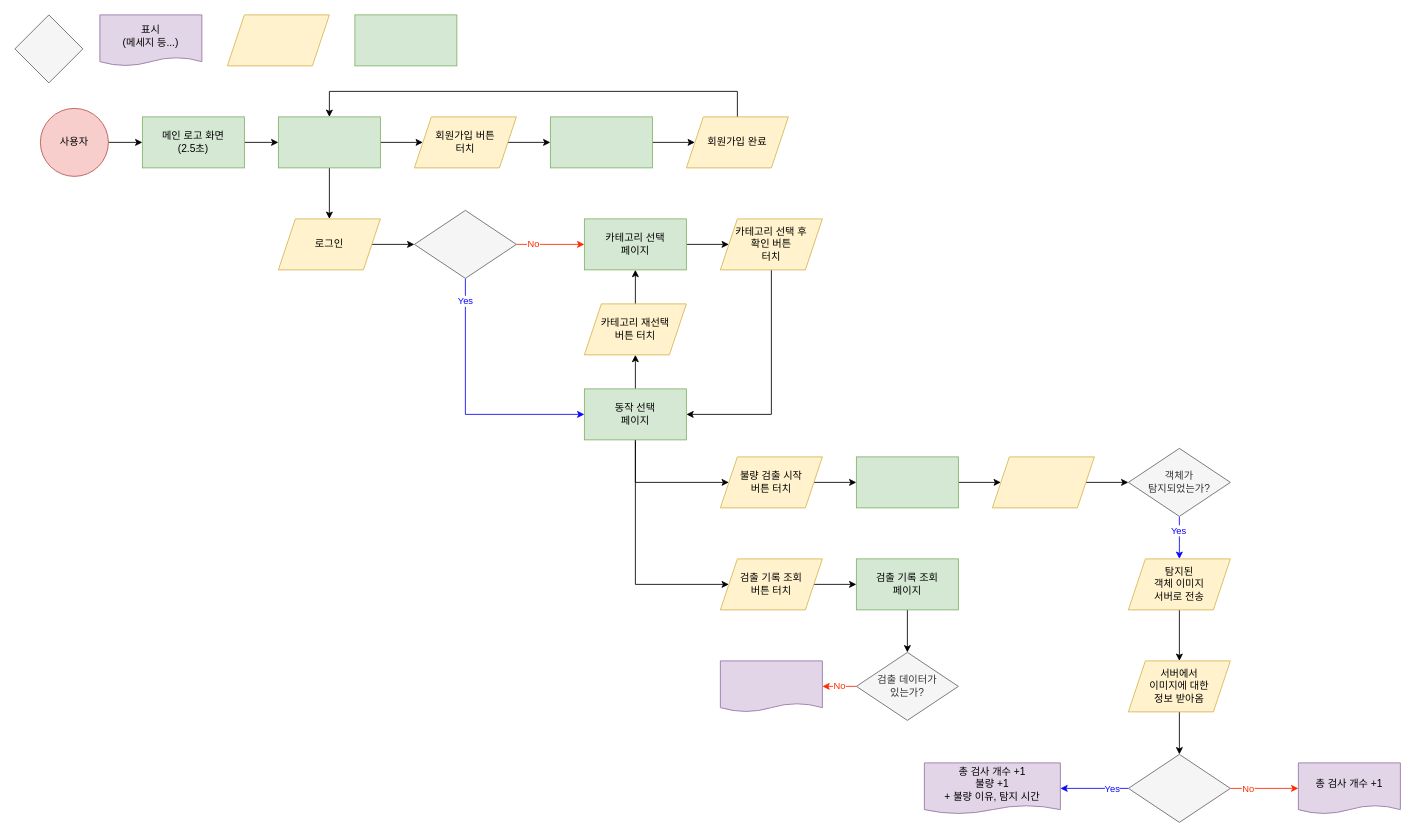
This 1415x837 diagram has some shape labels left out. The centre of each missing label's shape, as x and y in pixels:
"검사 기록이 없습니다!" goes at (x=771, y=686).
"도메인이 정해져 있는가?" goes at (x=465, y=244).
"동영상 실행 및 AI를 이용해서 객체 탐지" goes at (x=1043, y=482).
"로그인 페이지" goes at (x=329, y=142).
"불량 검출 페이지" goes at (x=907, y=482).
"입출력 (이벤트/액션)" goes at (x=278, y=40).
"처리 (보여줄 페이지)" goes at (x=405, y=40).
"탐지된 객체가 불량인가?" goes at (x=1179, y=788).
"판단 (분기점)" goes at (x=48, y=48).
"회원가입 페이지" goes at (x=601, y=142).
